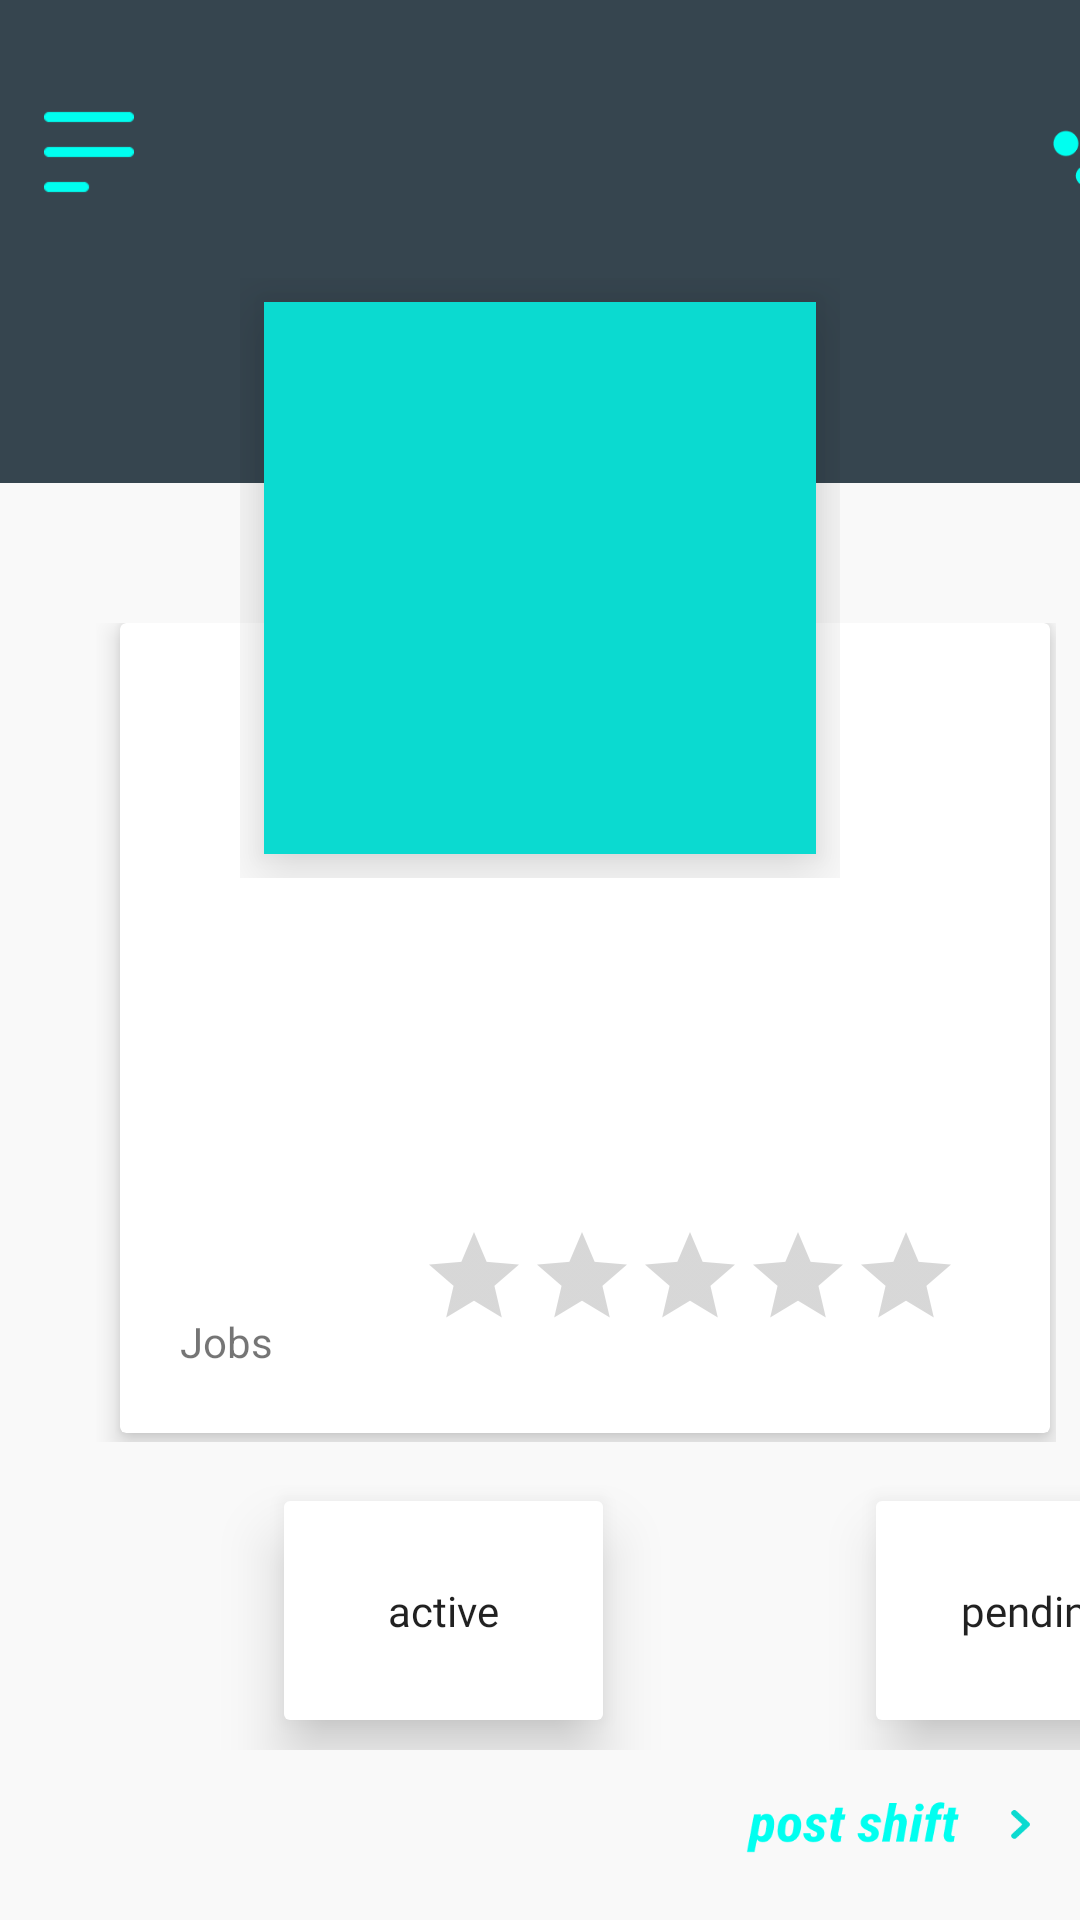

Locate icon controls on the screen. Image size 1080 x 1920, boxes as bbox(x1, y1, x2, y2).
menu: bbox(44, 112, 134, 192)
